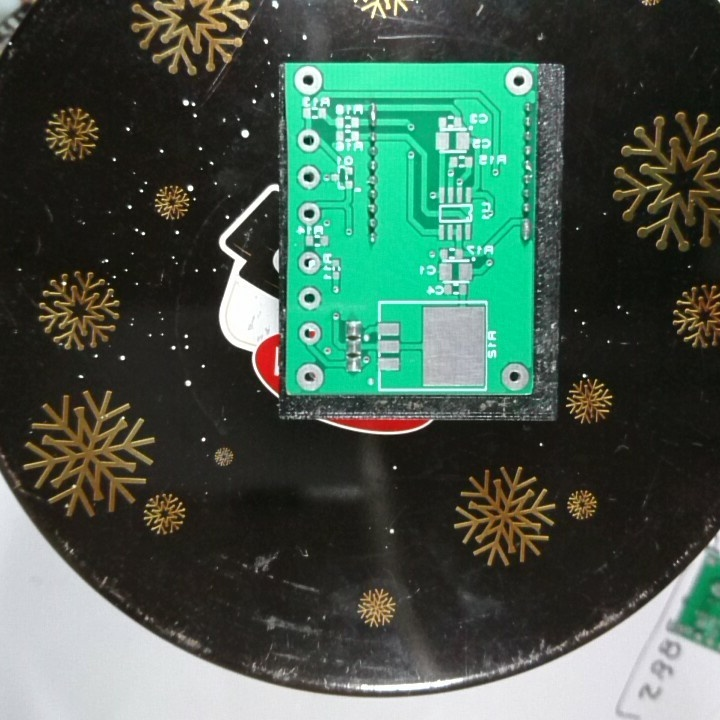F: (291, 64, 325, 96), (499, 360, 531, 393), (503, 66, 534, 96), (295, 362, 325, 392), (297, 165, 322, 191), (297, 286, 322, 312), (297, 320, 322, 346), (297, 200, 320, 224), (298, 251, 321, 275), (297, 129, 320, 152)
P: (366, 100, 381, 129), (520, 218, 532, 243)
